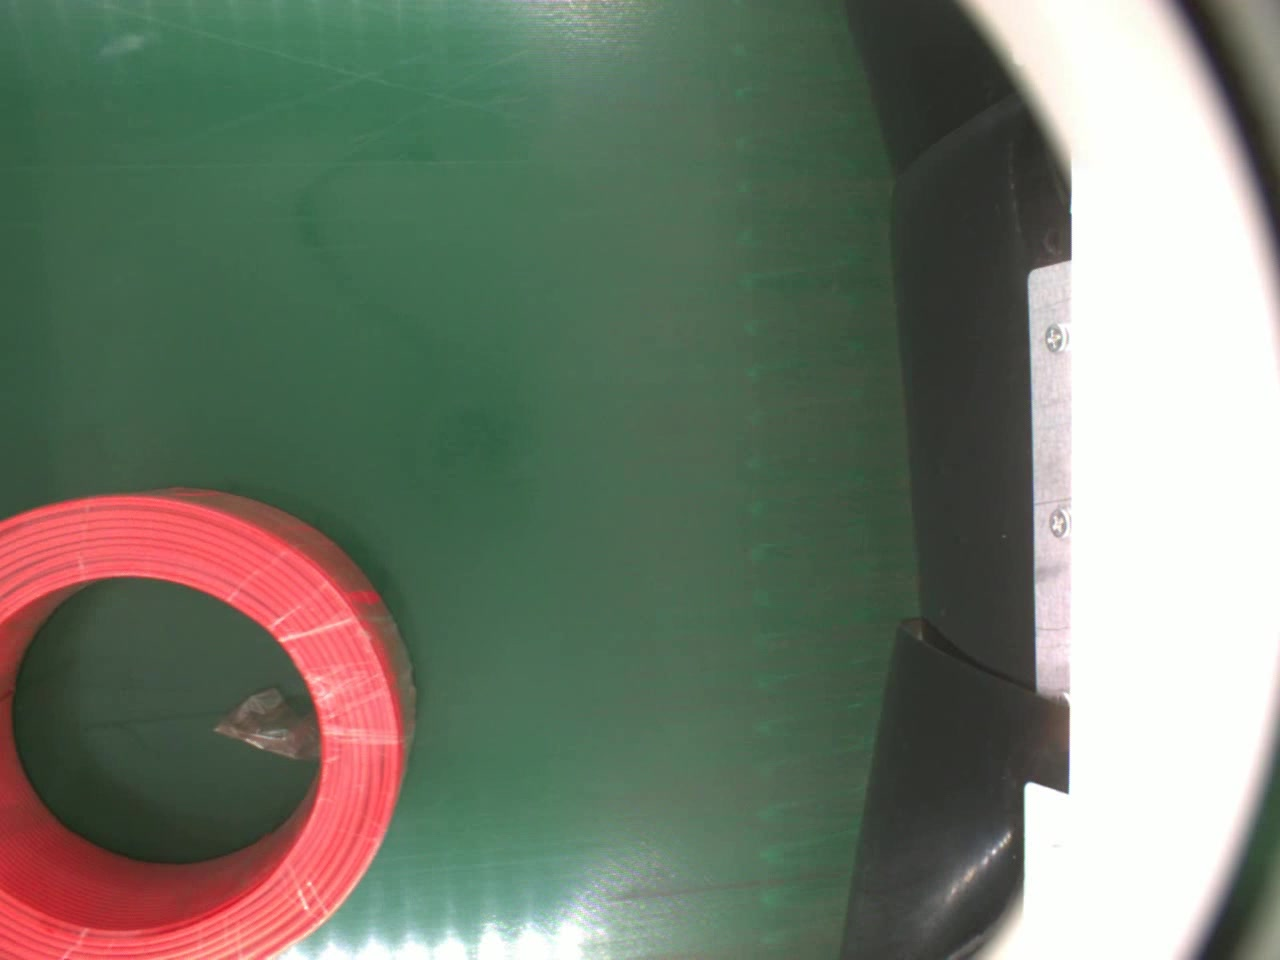red: (0, 486, 422, 960)
